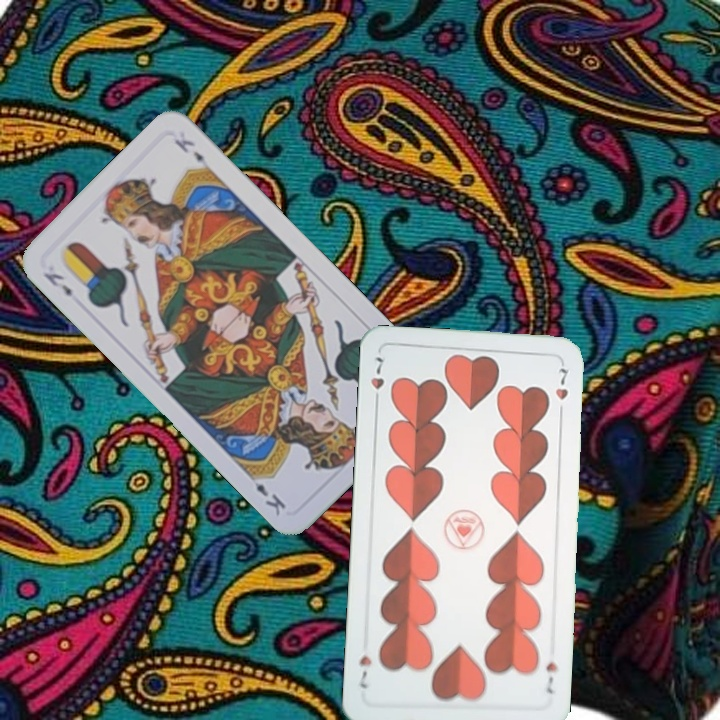EK: (39, 268, 75, 300)
H7: (366, 352, 387, 409), (542, 658, 560, 696)
